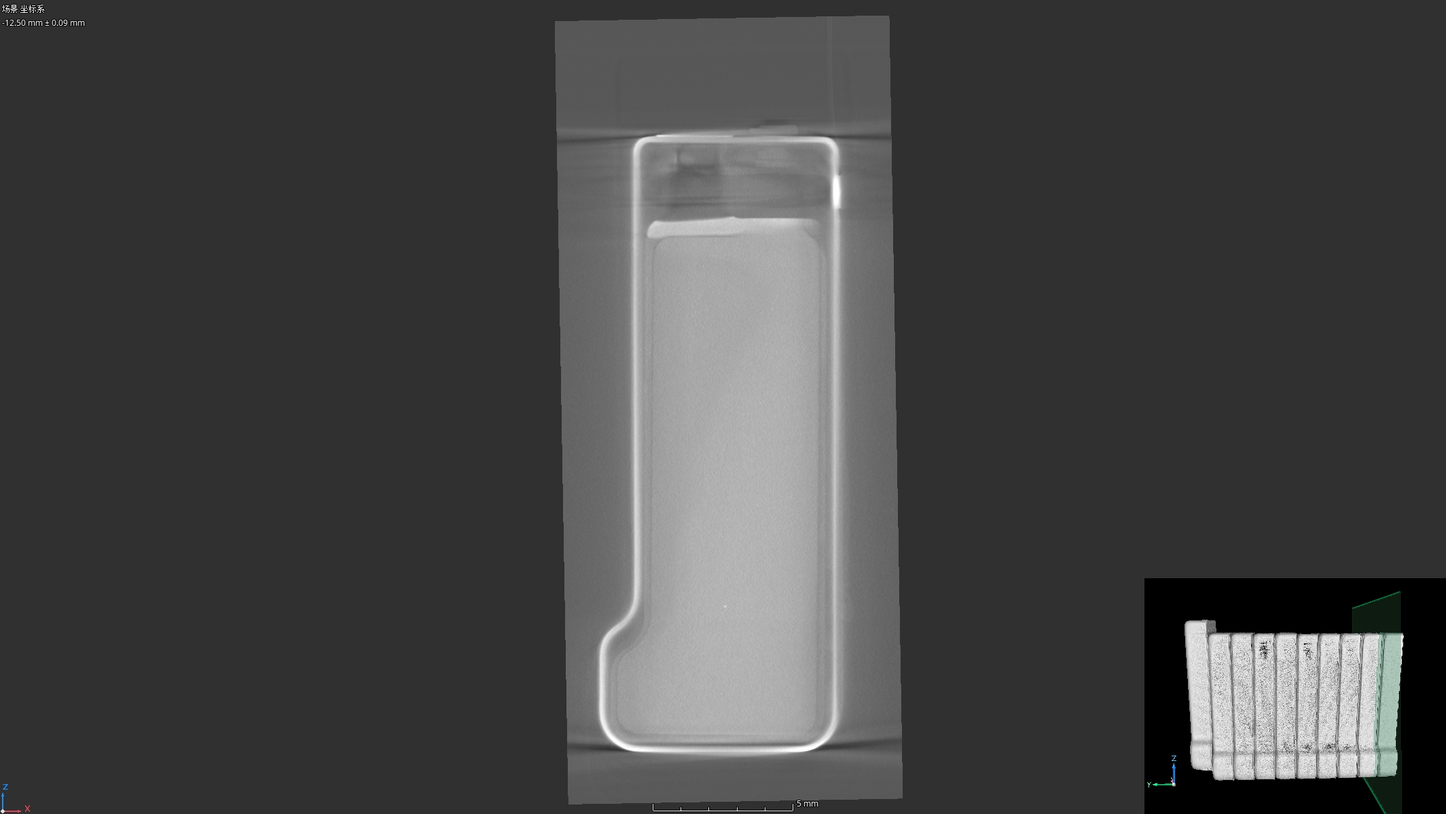light: (721, 603, 729, 610)
